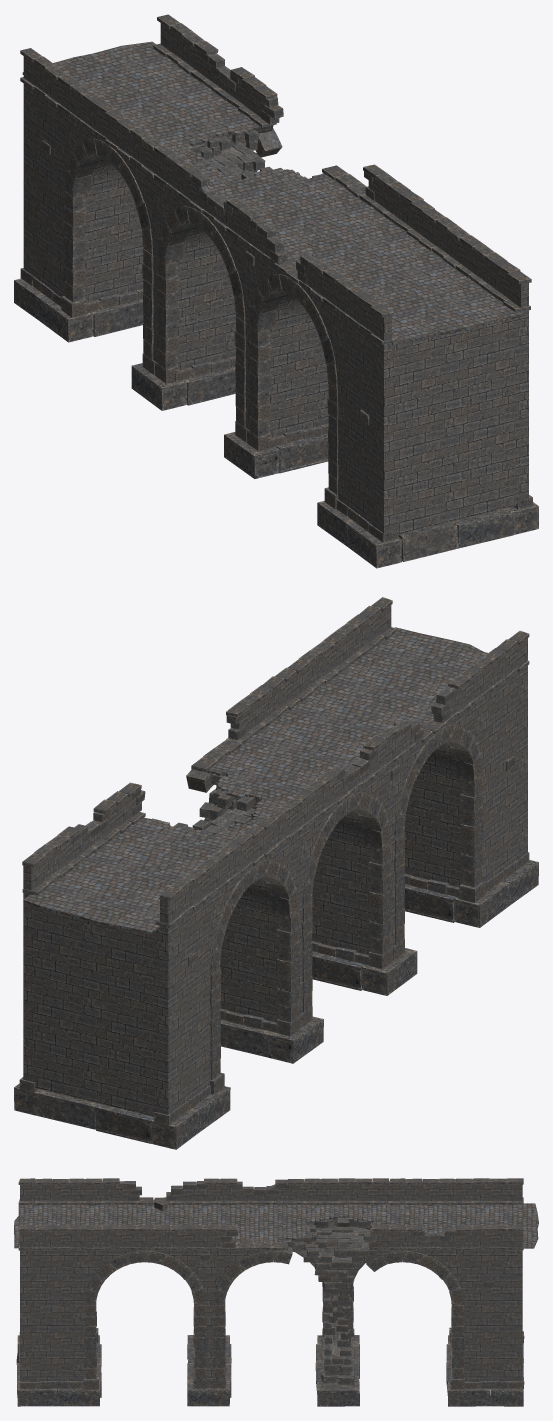
File: Bridge_Ruins.fbx
3 renders of one model, top to bottom at view 1: azimuth 30°, elevation 25°; view 2: azimuth 150°, elevation 25°; view 3: azimuth 270°, elevation 25°, orthographic. The views are drawn at different scales.
Parts seen in each view (by area): view 1: Stone_Wall, Stone_Bricks, Floor; view 2: Stone_Wall, Stone_Bricks, Floor; view 3: Stone_Wall, Stone_Bricks, Floor.
Boxes of the visible parts, <box> form: Stone_Wall: <box>23,23,528,534</box>; Stone_Bricks: <box>14,14,538,568</box>; Floor: <box>22,41,524,344</box>; Stone_Wall: <box>23,605,527,1116</box>; Stone_Bricks: <box>14,597,538,1149</box>; Floor: <box>23,627,487,933</box>; Stone_Wall: <box>20,1181,522,1384</box>; Stone_Bricks: <box>16,1178,524,1406</box>; Floor: <box>14,1203,538,1248</box>.
Size of what is drawn, in the model's own units: 450 by 666 by 1797.
